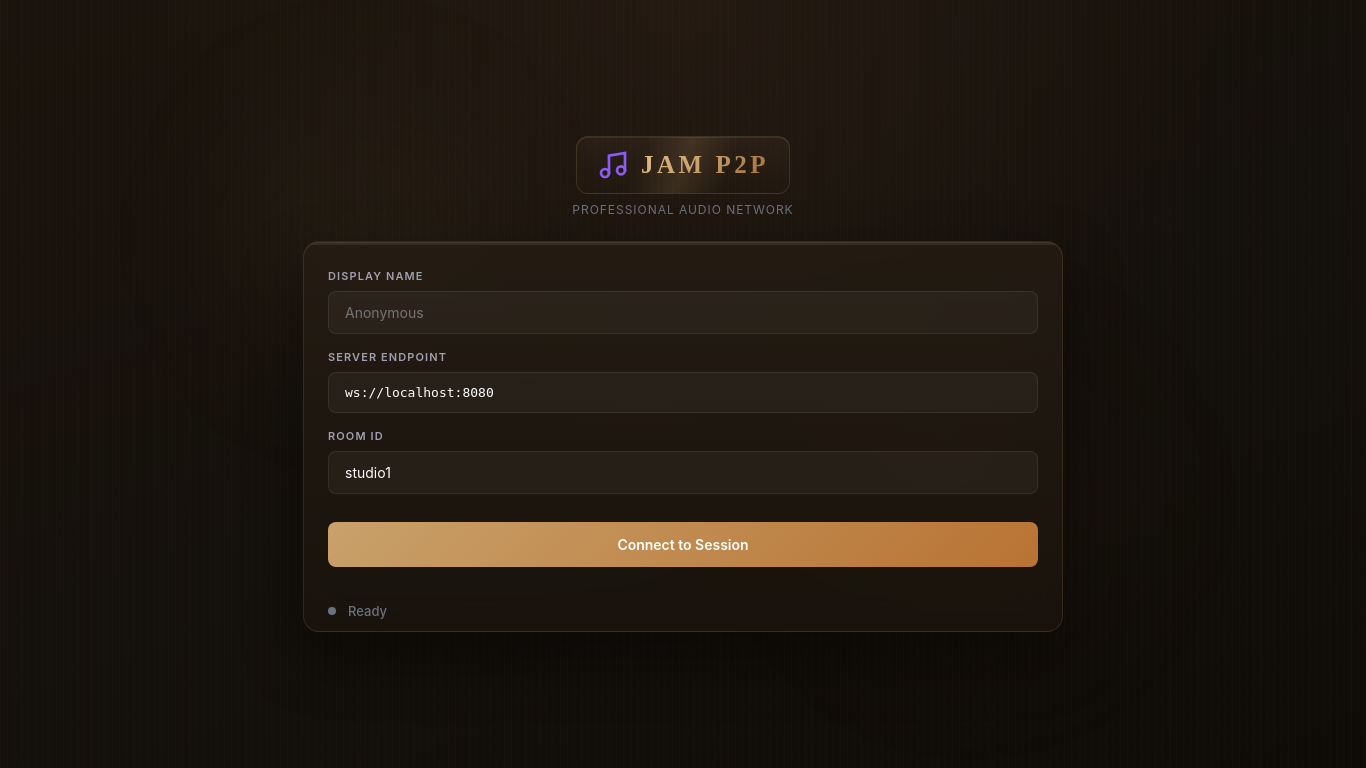
Test: App — connect flow › falls back to 'Musician <id>' when name is empty
Click the button "Connect to Session".
click(683, 544)  # box [328,522,1038,567]
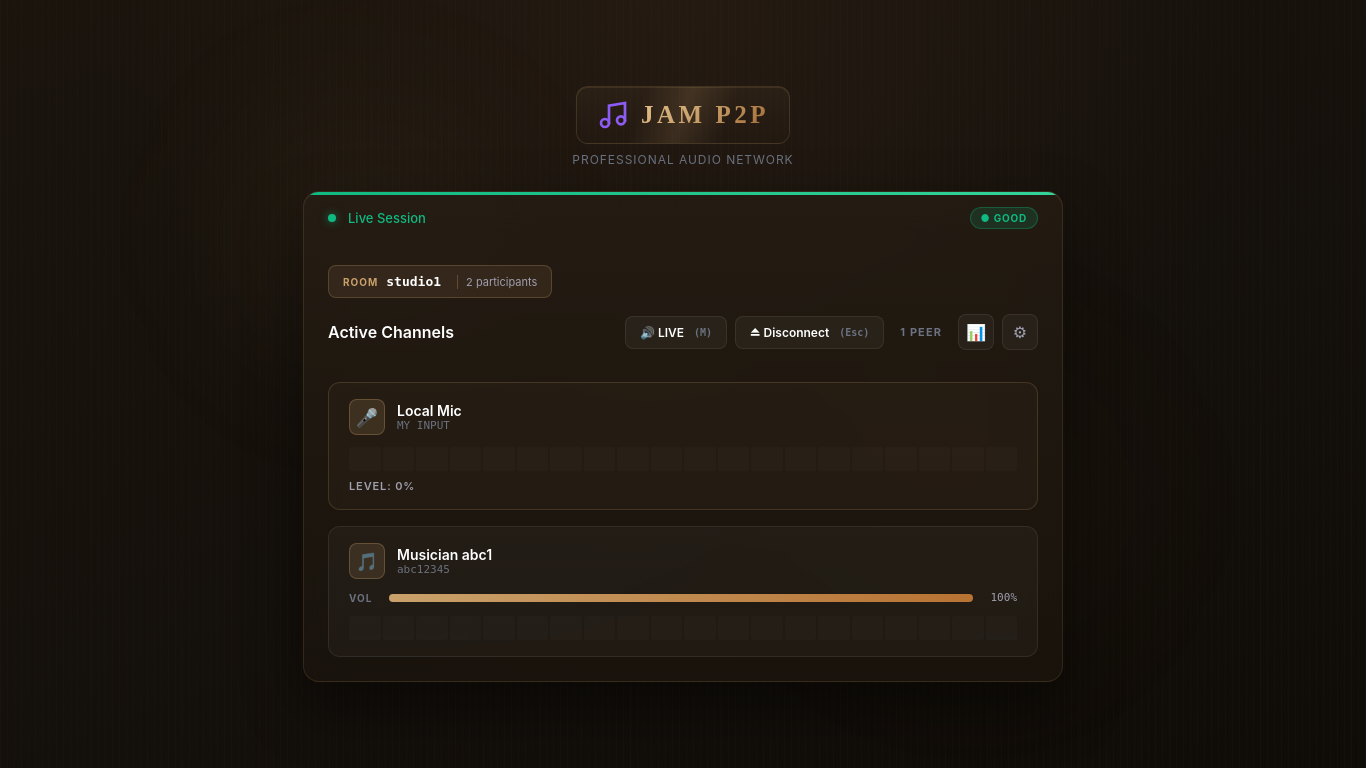
Expected: the text "Musician abc1" is shown, [397,546,492,563]
